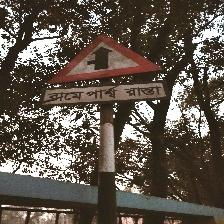Side-road-left: (43, 33, 168, 108)
